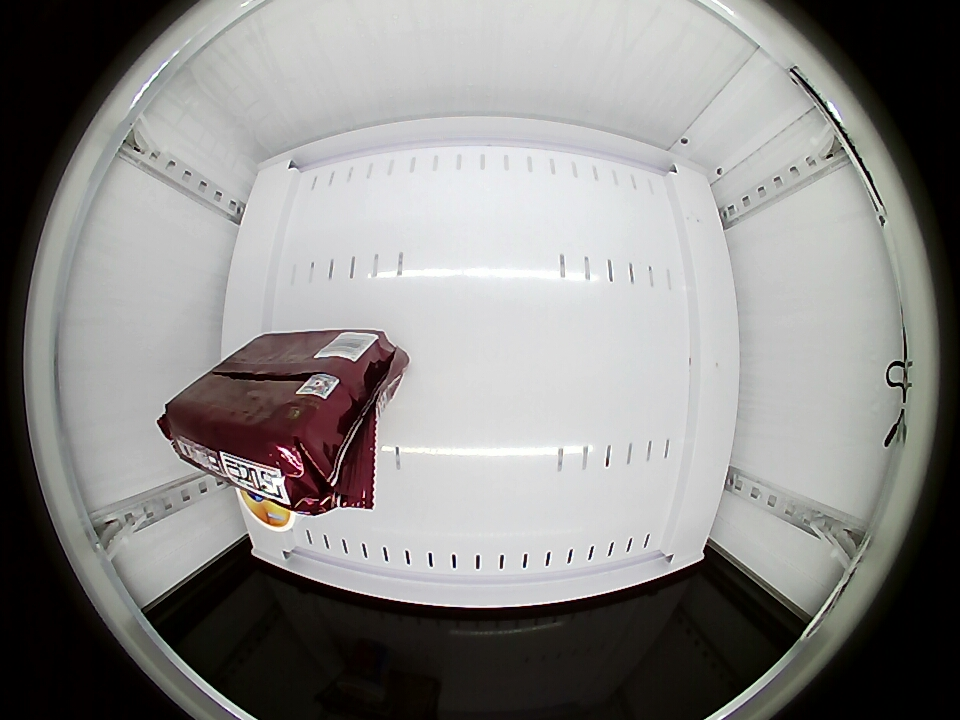haochidian: (163, 371, 376, 516)
